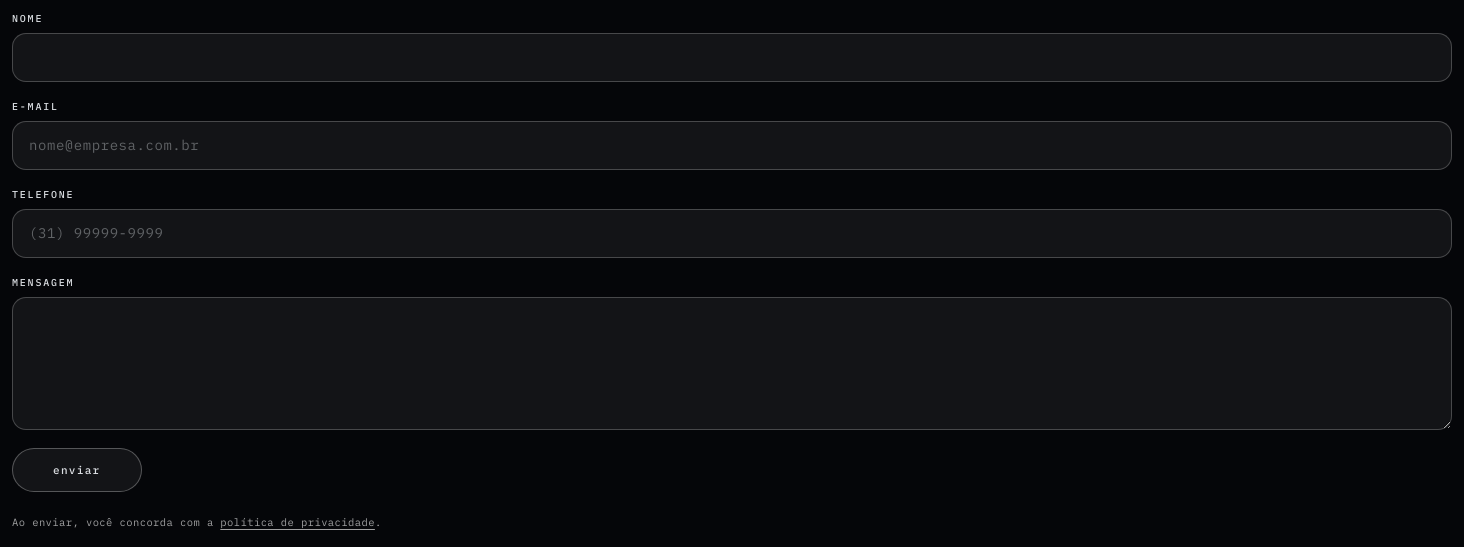
Test: contato › sem endpoint, avisa que o envio não está configurado
Type "Sarah" into the field labelled "nome" at (732, 58), box [12,33,1452,82]
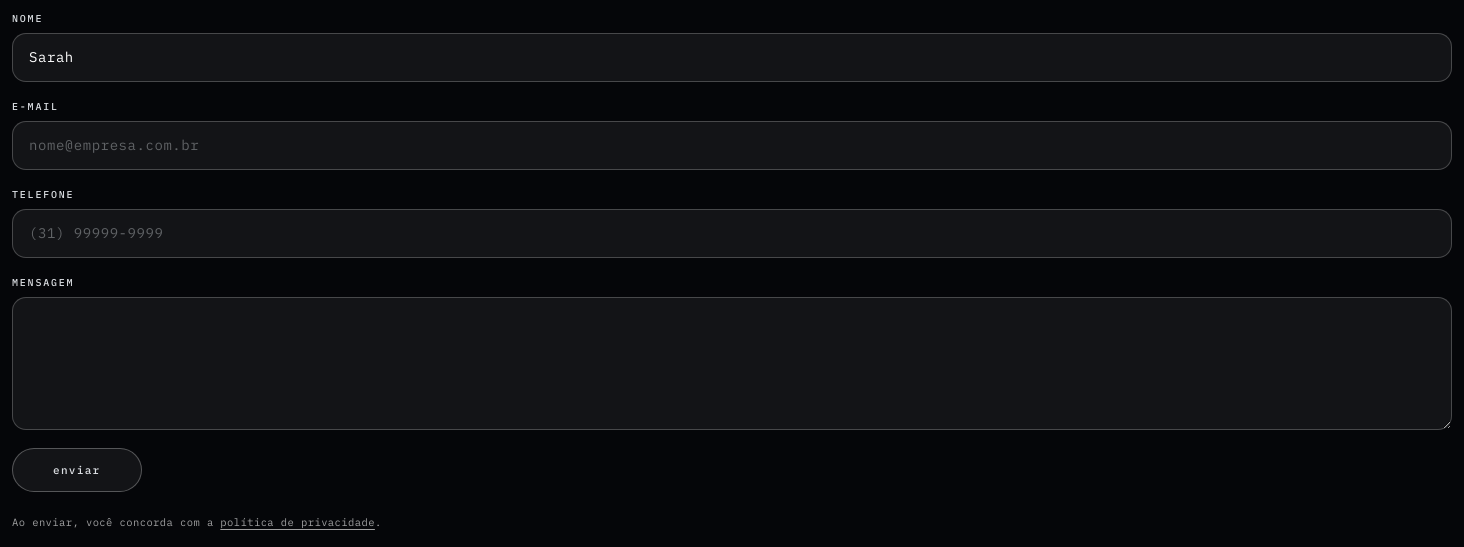
Type "sarah@exemplo.com" into the field labelled "e-mail" at (732, 146), box [12,121,1452,170]
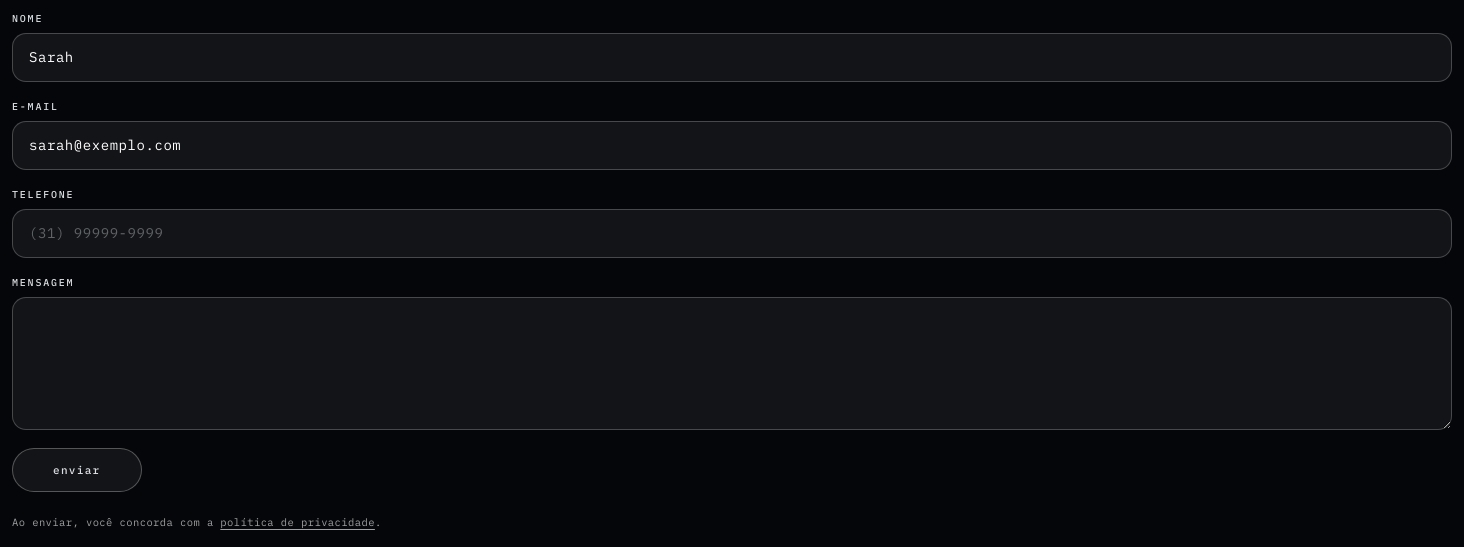
Type "31993341543" into the field labelled "telefone" at (732, 234), box [12,209,1452,258]
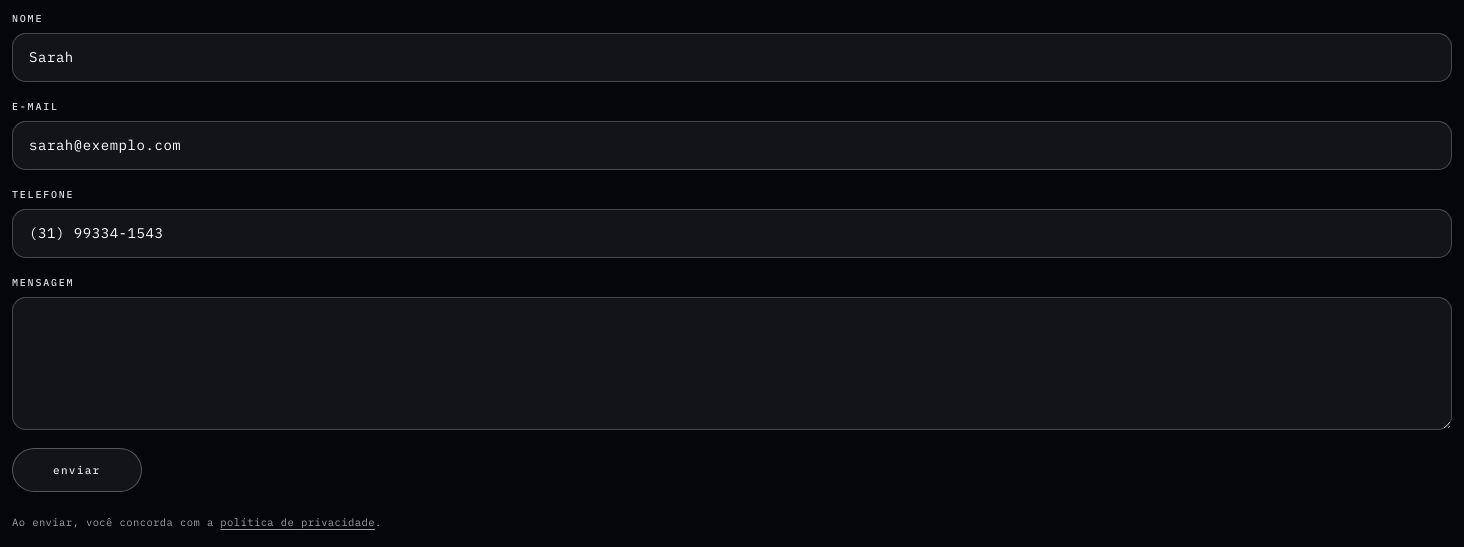
Type "Quero estruturar a comunicação da minha marca." into the text box labelled "mensagem" at (732, 364), box [12,297,1452,430]
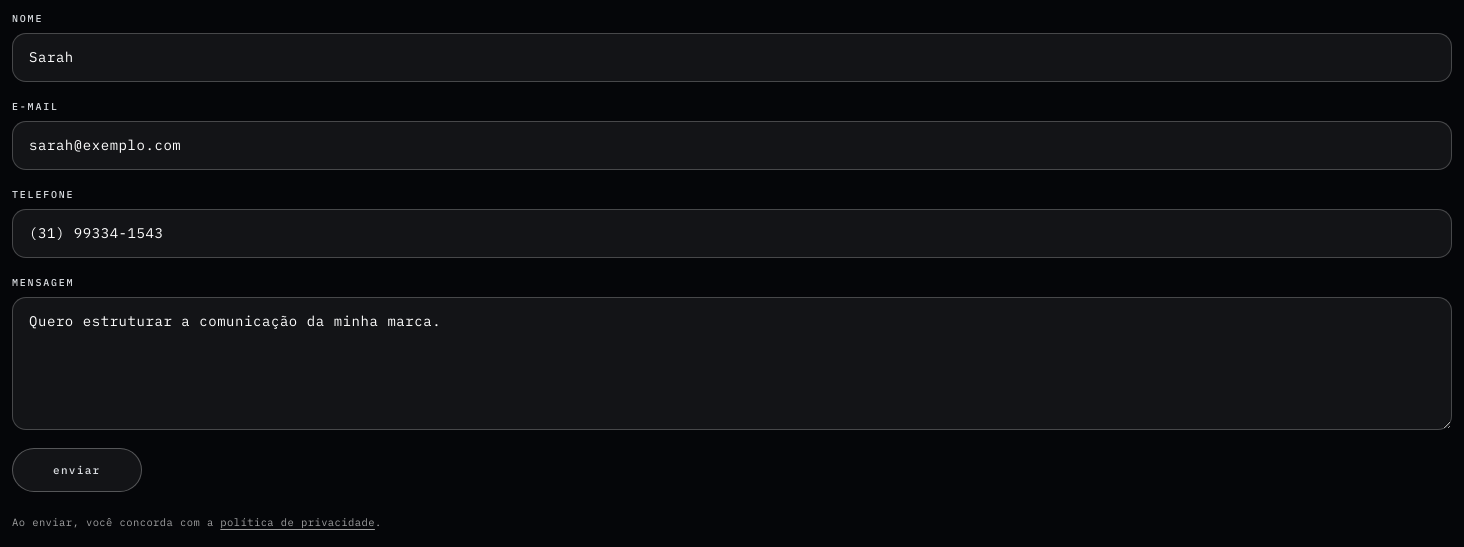
Submit the form "enviar"
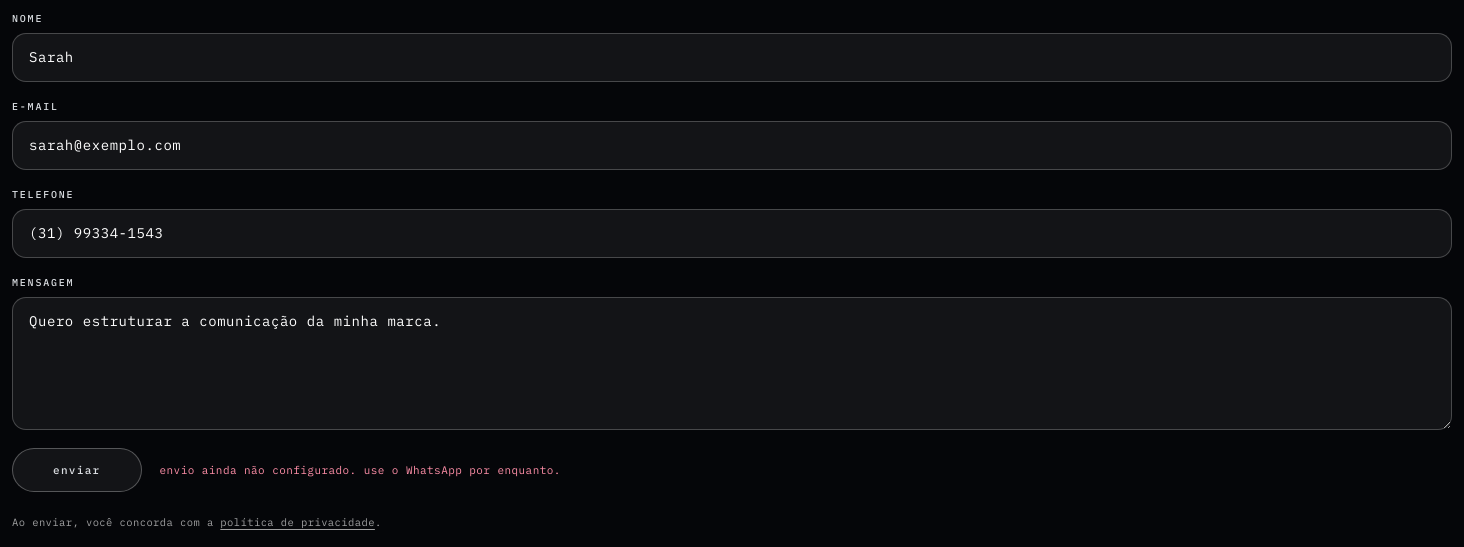
expect the message shows "envio ainda não configurado": met, box [160,463,561,477]
